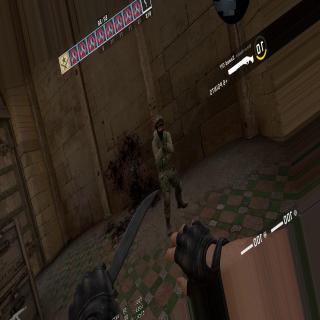CT-Body: (147, 110, 190, 240)
CT-Head: (154, 116, 164, 135)
